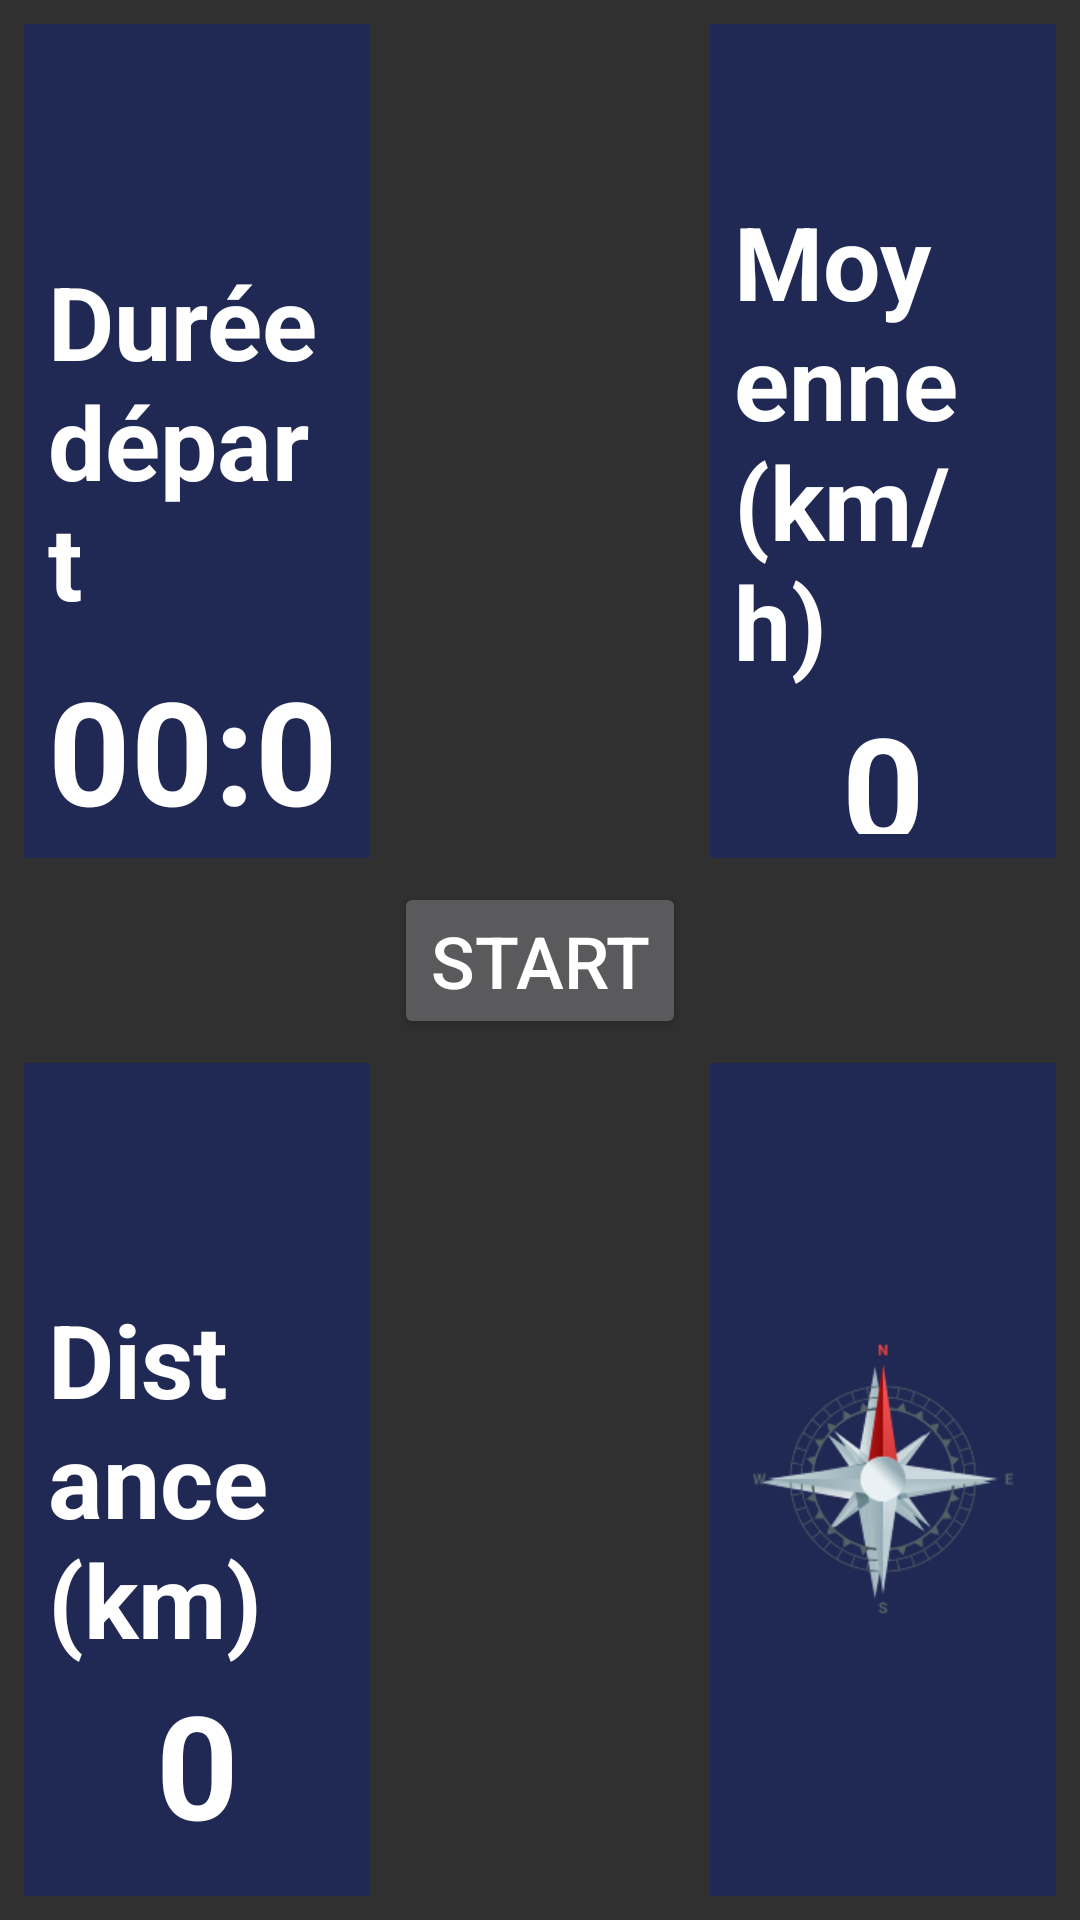

Named icons in this screenshot (1080w x 1920h) and their centers, (x,y):
compas road: (882,1478)
